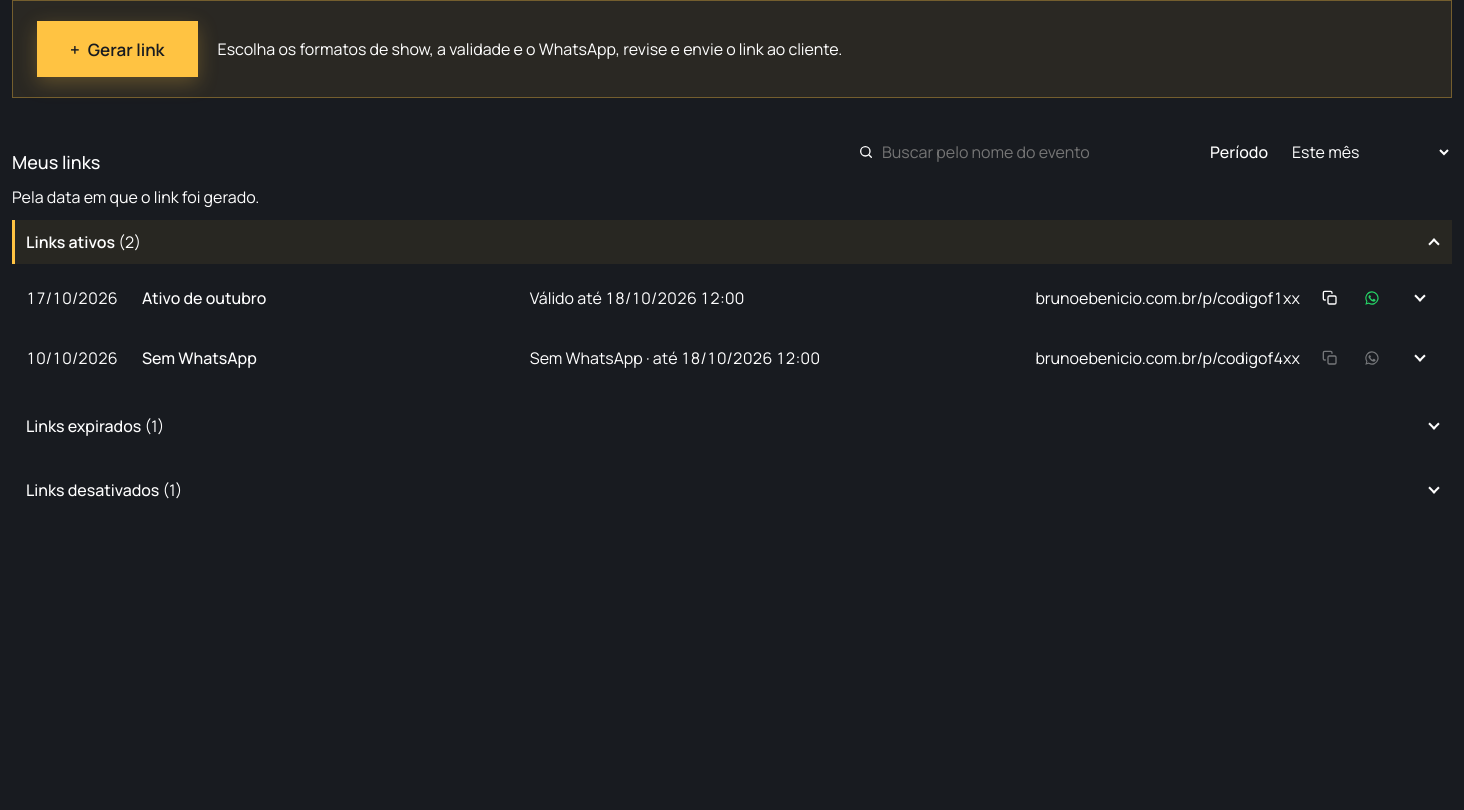
Test case: seções e período › três seções, nesta ordem, com os links do mês atual (padrão)
The image size is (1464, 810).
Click the button "Links expirados (1)". click: x=84, y=426
box: [12, 404, 1452, 448]
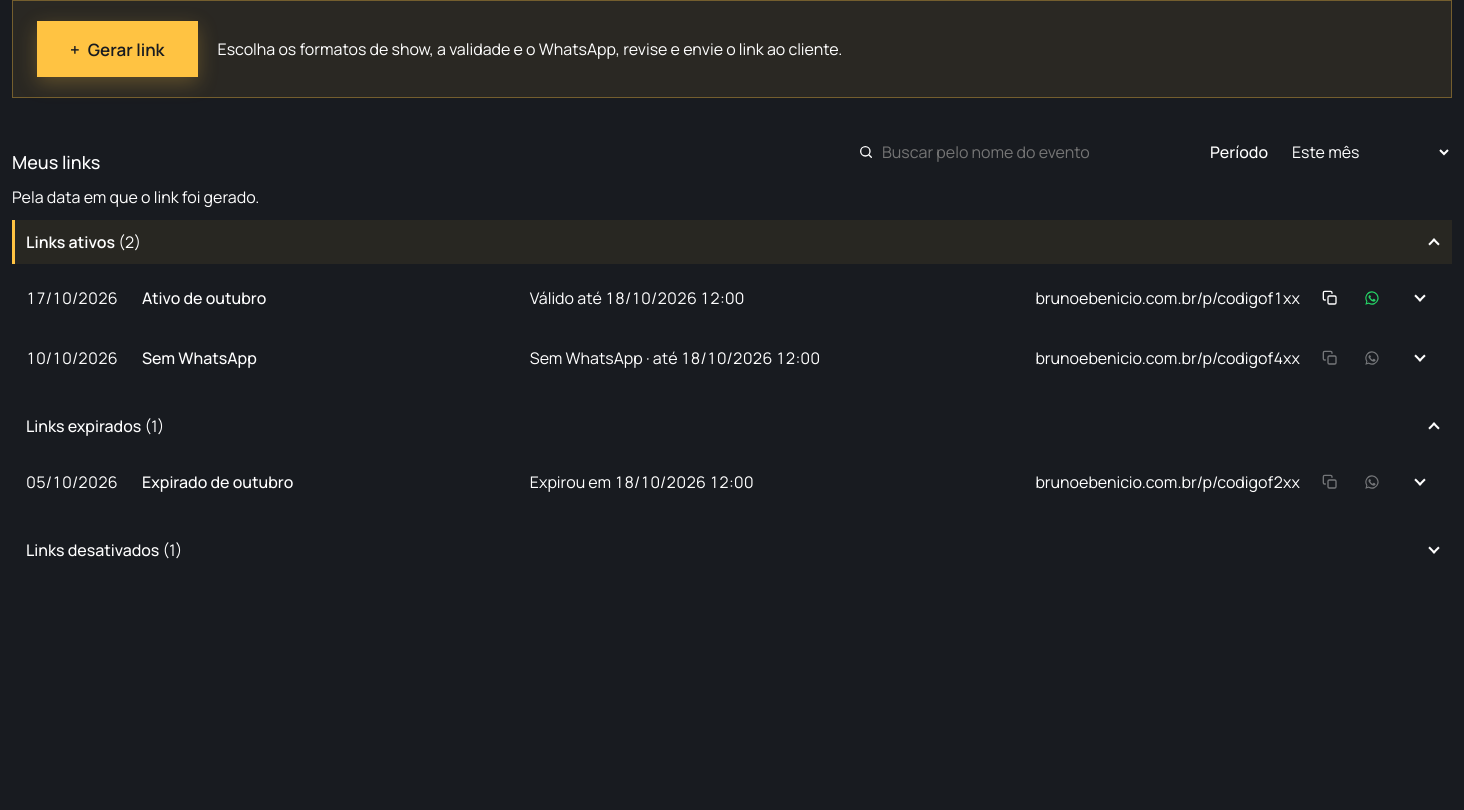
Click the button "Links desativados (1)". click: x=93, y=550
box: [12, 528, 1452, 572]
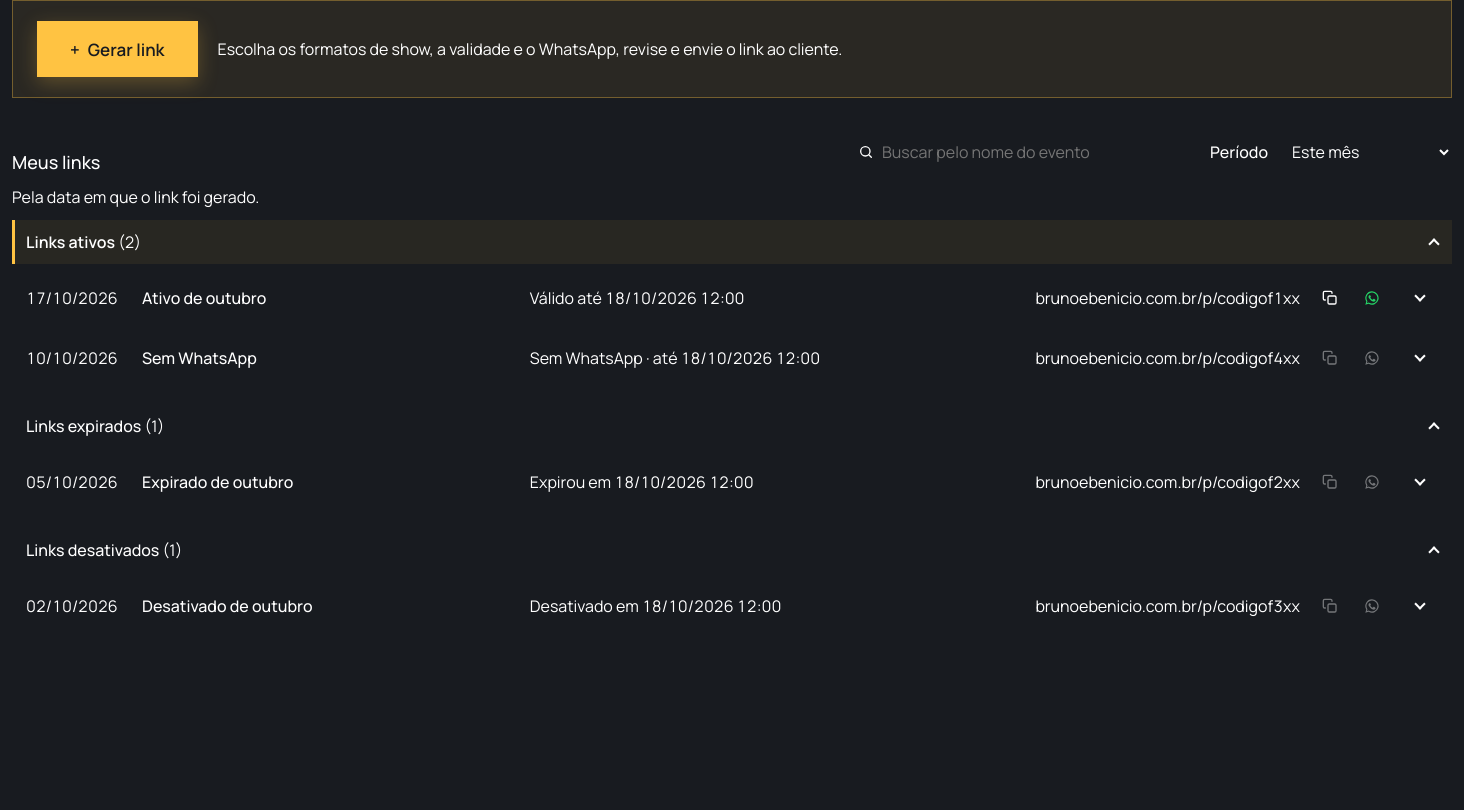
Check: the list item that starts with "Expirado de outubro" is shown, box [142, 471, 293, 493]
Check: the list item that starts with "Desativado de outubro" is shown, box [142, 595, 312, 617]
